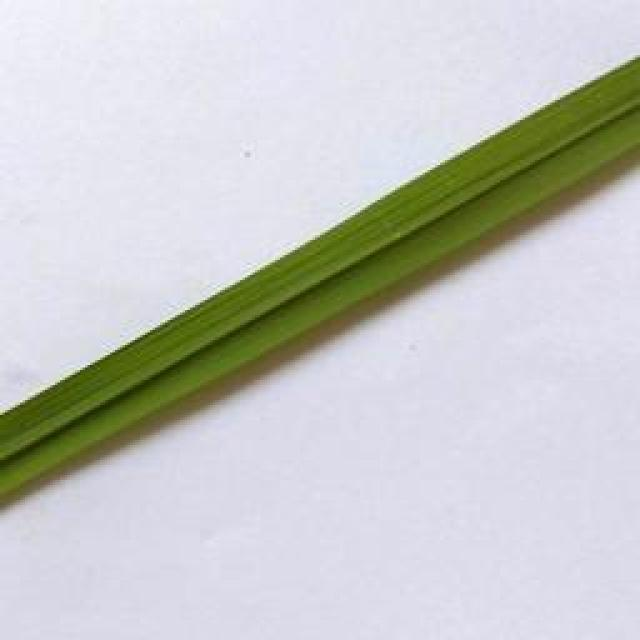Healthy-Plant: (0, 58, 637, 498)
